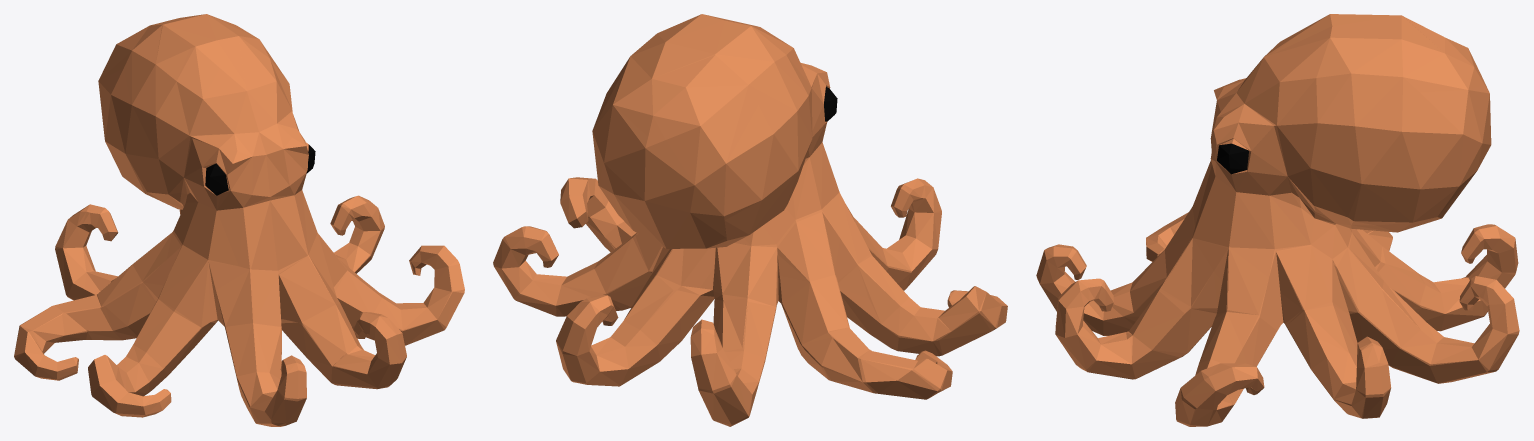
Rendered from Pulpo.fbx.
3 views of the same model, side by side, from view 1: azimuth 30°, elevation 25°; view 2: azimuth 150°, elevation 25°; view 3: azimuth 270°, elevation 25° (orthographic). The views are drawn at different scales.
Visible parts, largest first — view 1: 24ac4143645bc694e308d3fb94c6399e; view 2: 24ac4143645bc694e308d3fb94c6399e; view 3: 24ac4143645bc694e308d3fb94c6399e.
Part boxes in pixels (x1,y1,x2,y2): 24ac4143645bc694e308d3fb94c6399e: [14, 14, 464, 426]; 24ac4143645bc694e308d3fb94c6399e: [493, 14, 1007, 426]; 24ac4143645bc694e308d3fb94c6399e: [1036, 14, 1519, 426].
Bounding box in the file's own units: 463 × 342 × 449.
